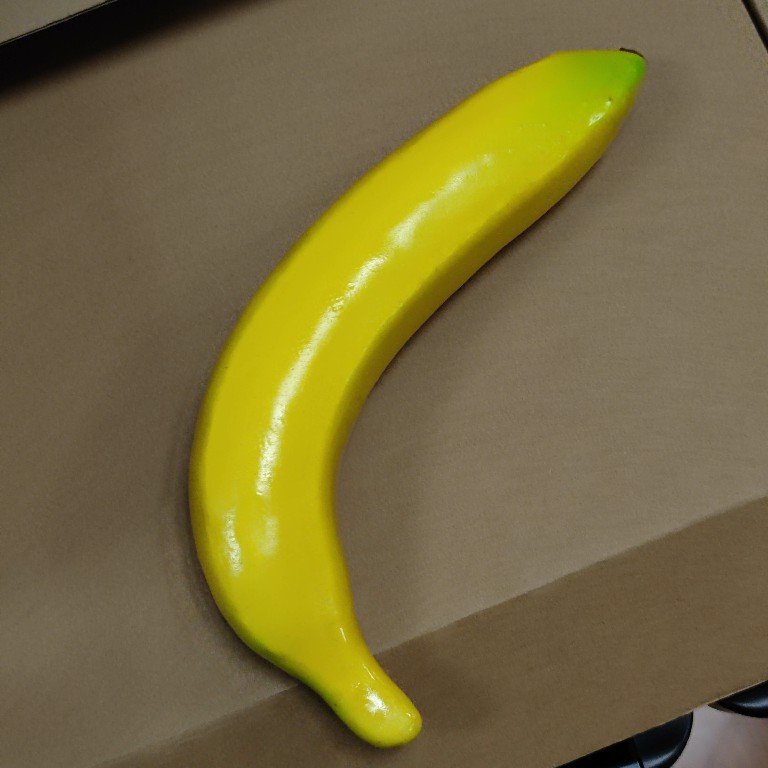fruit_banana: (175, 43, 651, 753)
